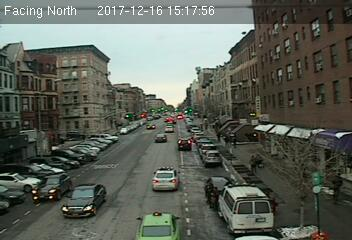car: (60, 184, 105, 218), (132, 212, 180, 240), (31, 174, 70, 200), (204, 151, 221, 166), (177, 138, 192, 150), (154, 134, 166, 143)
police: (216, 183, 277, 235), (151, 166, 180, 191)
